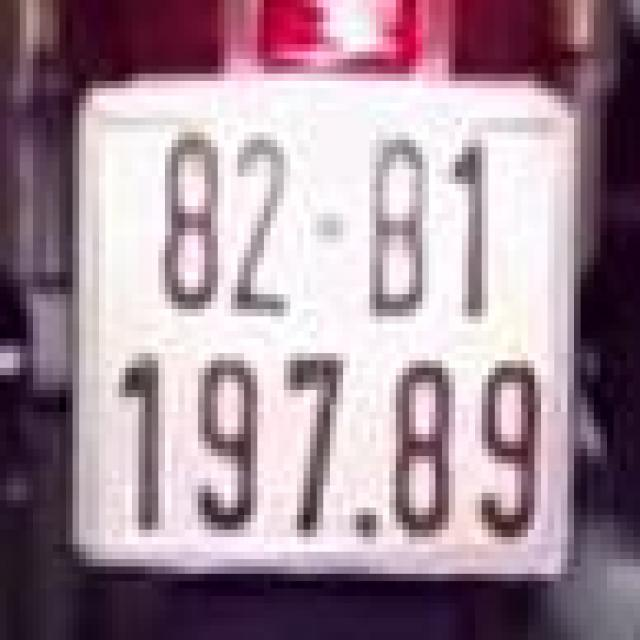1: (99, 342, 191, 555), (462, 129, 521, 342)
2: (234, 125, 320, 346)
7: (277, 338, 343, 574)
8: (152, 114, 231, 342), (383, 346, 462, 552)
9: (188, 338, 267, 559), (475, 346, 541, 559)
B: (359, 117, 458, 360)
